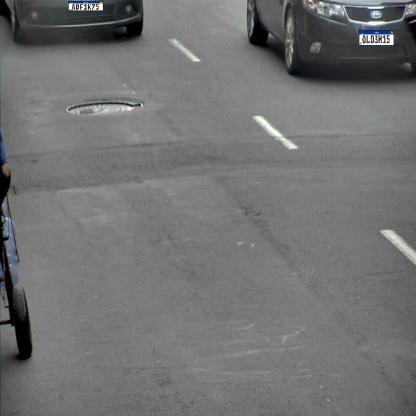PlacaM: (359, 30, 394, 46), (68, 1, 104, 11)
